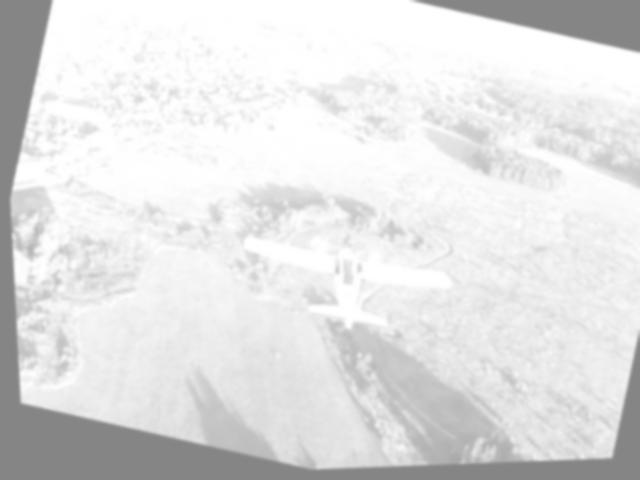hedef: (213, 210, 485, 376)
